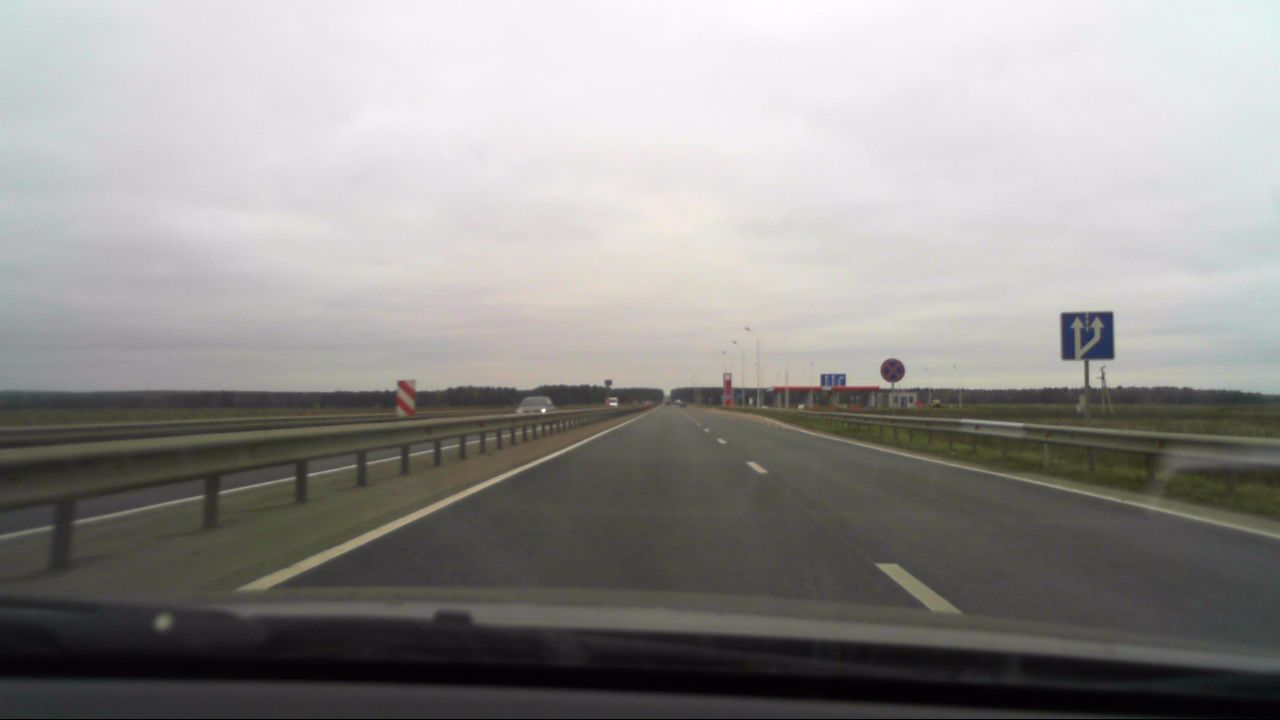No Parking: (880, 357, 906, 385)
